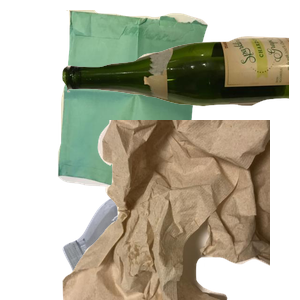glass: (60, 34, 300, 133)
paper: (55, 10, 255, 190)
plastic: (60, 190, 300, 280)
trash: (60, 120, 300, 300)
